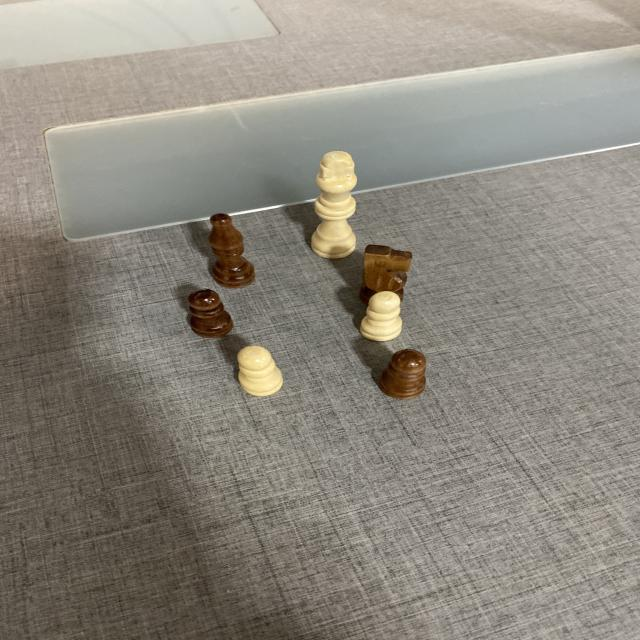Black-Bishop: (210, 212, 253, 284)
Black-Knight: (362, 242, 415, 304)
Black-Pawn: (186, 288, 237, 340), (383, 348, 429, 398)
White-King: (306, 151, 361, 260)
White-Pawn: (237, 344, 284, 398), (359, 289, 403, 341)
